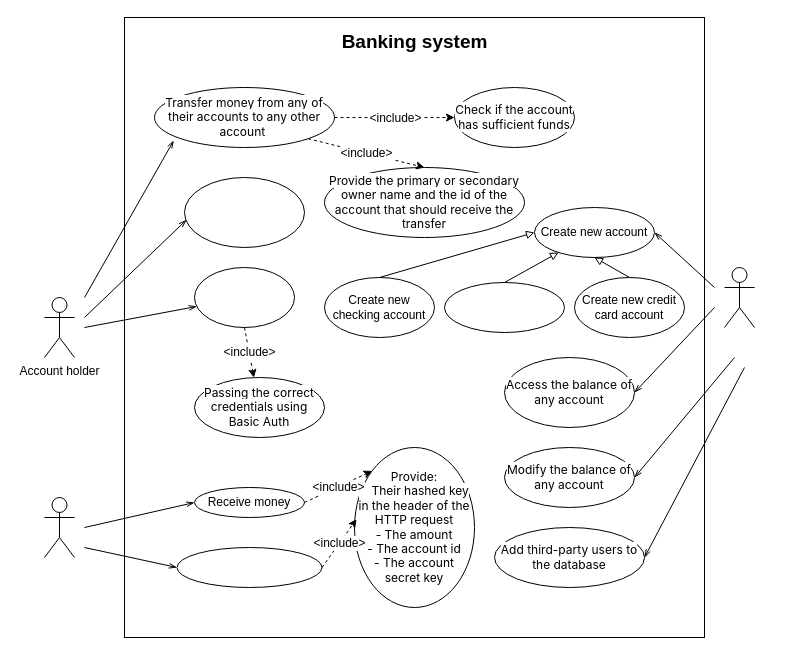
This 792x655 diagram has some shape labels left out. The shapes that lost their labels are listed below. From the top down, each one's centre as x and y in pixels, then its label:
the point at 244,212: Access to their own account balance
the point at 244,297: Access to their accounts
the point at 504,307: Create new savings account
the point at 739,297: Administrator
the point at 59,527: Third-party user
the point at 249,567: Send money to other accounts
